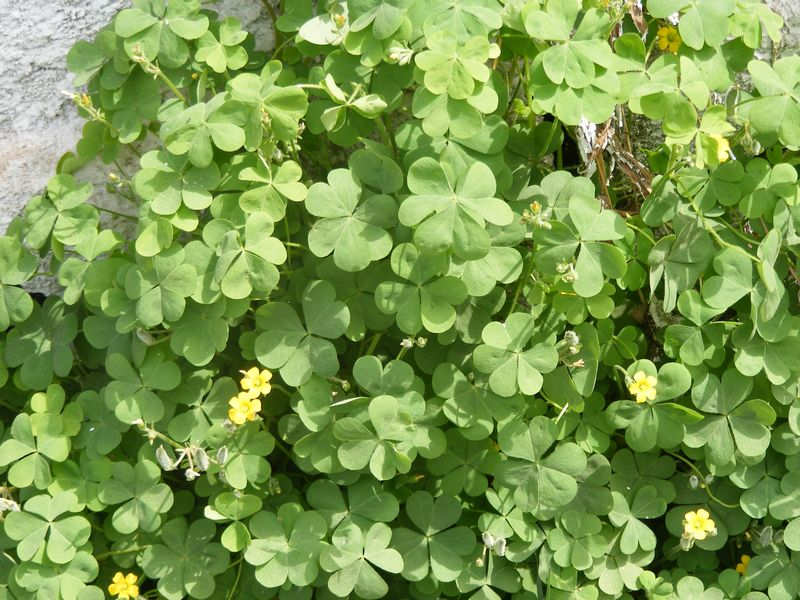oxalis: (72, 73, 800, 590)
